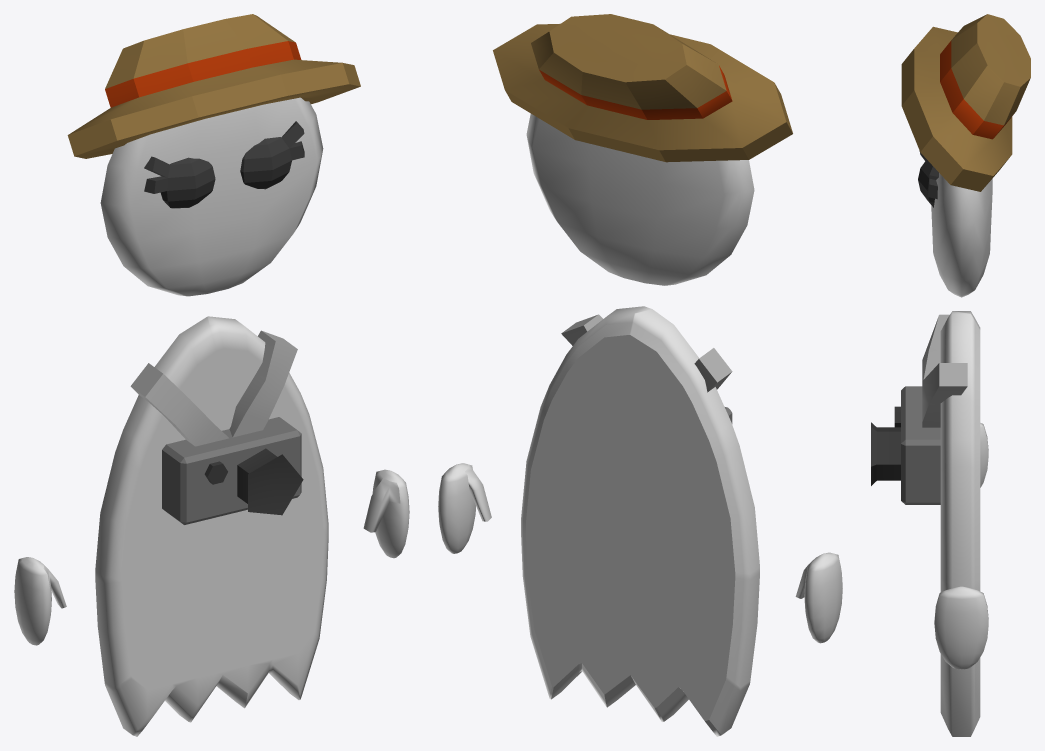
The model's file is chaian.fbx.
3 renders of one model, left to right at view 1: azimuth 30°, elevation 25°; view 2: azimuth 150°, elevation 25°; view 3: azimuth 270°, elevation 25°, orthographic. The views are drawn at different scales.
Parts seen in each view (by area): view 1: base_hand_left1; view 2: base_hand_left1; view 3: base_hand_left1.
Part boxes in pixels (x1,y1,x2,y2): base_hand_left1: (14, 14, 409, 736); base_hand_left1: (438, 14, 842, 736); base_hand_left1: (871, 14, 1030, 736).
Bounding box in the file's own units: 14.98 × 25.69 × 5.59.
